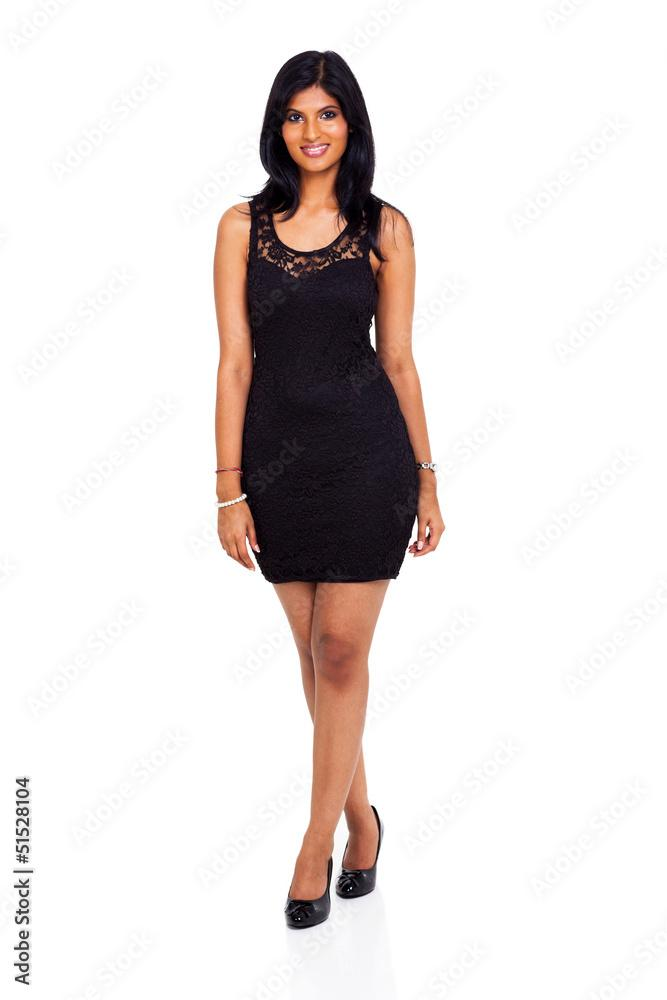Human: (178, 48, 482, 953)
